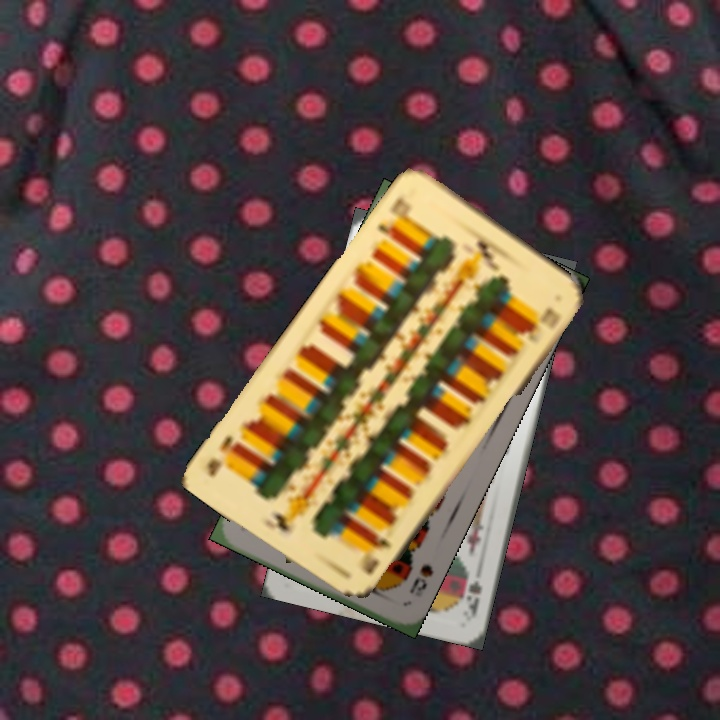E10: (356, 531, 395, 577), (373, 192, 405, 239)
S8: (405, 560, 436, 596)
SK: (458, 566, 485, 621)
